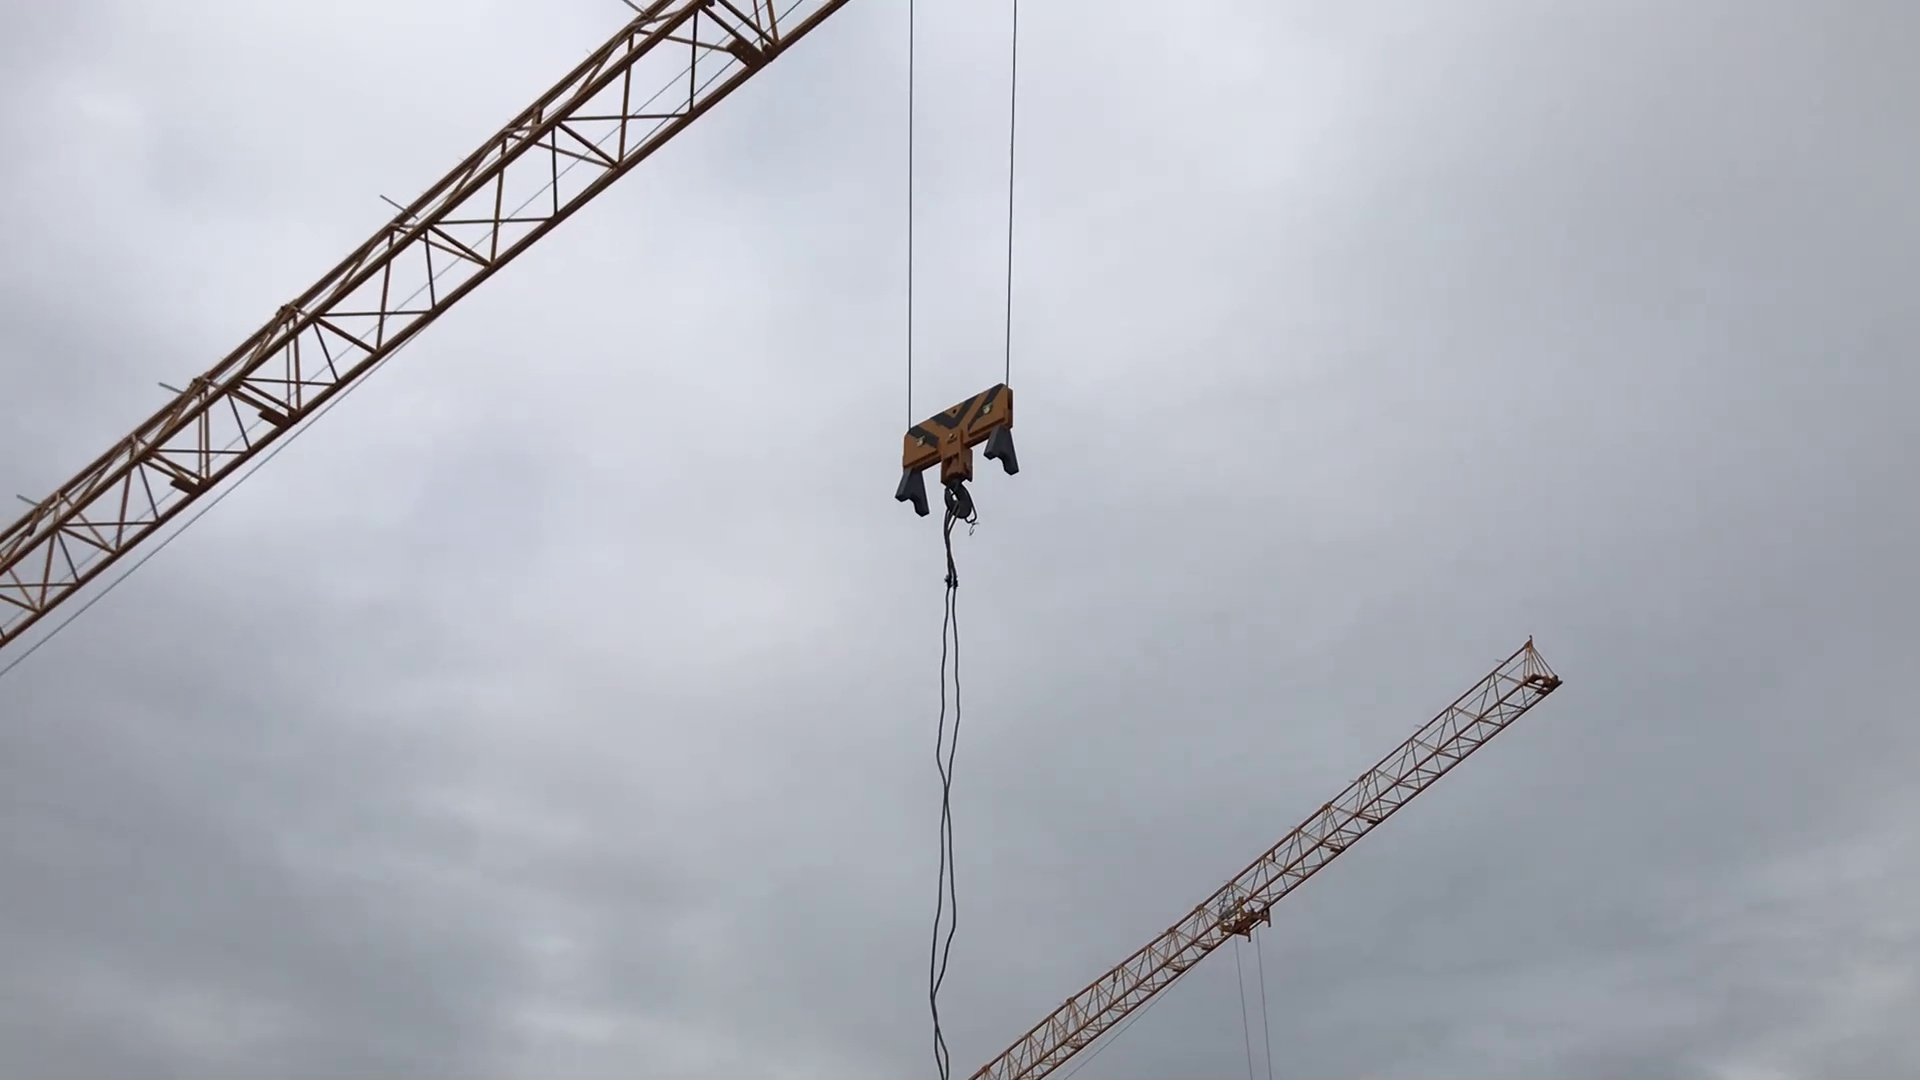hook: (887, 378, 1033, 539)
